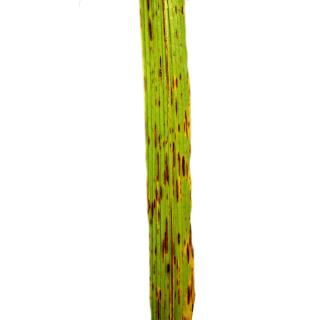Bercak-Cokelat-Sempit: (144, 135, 194, 227), (146, 229, 195, 320), (170, 74, 190, 133), (144, 12, 158, 42), (155, 52, 163, 88)
